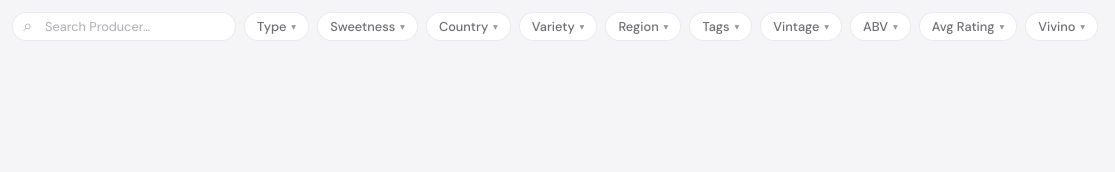
Test: tags dropdown shows count next to each tag option
Click the button with test id "filter-dropdown-tags": (721, 26) 689,12 -> 752,41
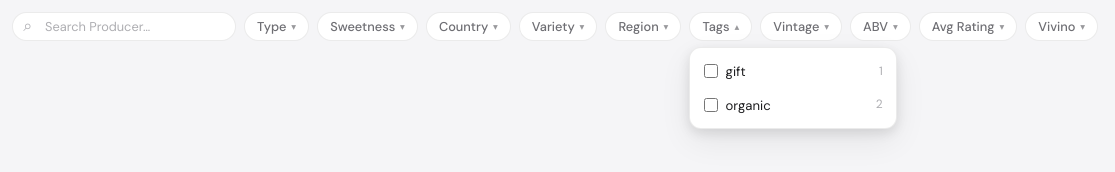
Expected: the text "organic" is shown, 726,94 -> 771,116
Expected: the text "gift" is shown, 726,61 -> 746,82
